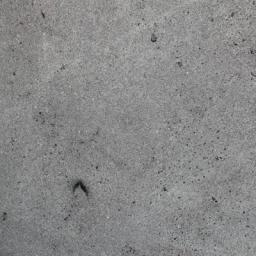FOD: (71, 180, 91, 207)
